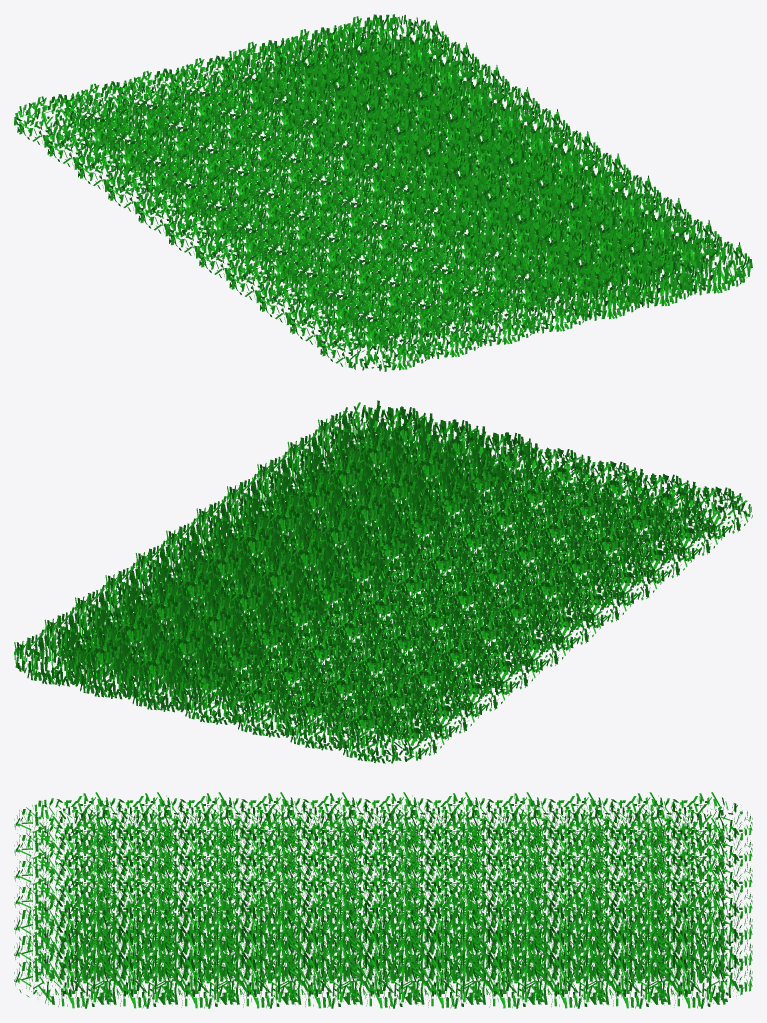
Rendered from grass.glb.
The picture shows the model from 3 angles, top to bottom: view 1: azimuth 30°, elevation 25°; view 2: azimuth 150°, elevation 25°; view 3: azimuth 270°, elevation 25°; orthographic projection.
Parts seen in each view (by area): view 1: Trava Kolosok.023, Trava Kolosok.035, Trava Kolosok.001, Trava Kolosok.055, Trava Kolosok.002, Trava Kolosok.036, Trava Kolosok.003, Trava Kolosok.056, Trava Kolosok.008, Trava Kolosok.026, Trava Kolosok.022, Trava Kolosok.021 (+65 smaller); view 2: Trava Kolosok.001, Trava Kolosok.055, Trava Kolosok.003, Trava Kolosok.056, Trava Kolosok.023, Trava Kolosok.035, Trava Kolosok.002, Trava Kolosok.067, Trava Kolosok.078, Trava Kolosok.008, Trava Kolosok.020, Trava Kolosok.018 (+65 smaller); view 3: Trava Kolosok.023, Trava Kolosok.001, Trava Kolosok.022, Trava Kolosok.021, Trava Kolosok.024, Trava Kolosok.011, Trava Kolosok.009, Trava Kolosok.010, Trava Kolosok.026, Trava Kolosok.008, Trava Kolosok.018, Trava Kolosok.035 (+65 smaller).
Part boxes in pixels (x1,y1,x2,y2): Trava Kolosok.023: [632, 236, 752, 295]; Trava Kolosok.035: [527, 261, 646, 320]; Trava Kolosok.001: [329, 14, 449, 71]; Trava Kolosok.055: [224, 39, 343, 97]; Trava Kolosok.002: [317, 316, 436, 371]; Trava Kolosok.036: [579, 249, 699, 307]; Trava Kolosok.003: [14, 94, 133, 149]; Trava Kolosok.056: [276, 27, 396, 84]; Trava Kolosok.008: [480, 125, 601, 182]; Trava Kolosok.026: [602, 213, 722, 272]; Trava Kolosok.022: [541, 169, 661, 226]; Trava Kolosok.021: [511, 147, 631, 204]; Trava Kolosok.001: [14, 623, 130, 686]; Trava Kolosok.055: [119, 648, 238, 712]; Trava Kolosok.003: [329, 704, 448, 763]; Trava Kolosok.056: [66, 635, 182, 699]; Trava Kolosok.023: [317, 400, 435, 461]; Trava Kolosok.035: [423, 426, 542, 488]; Trava Kolosok.002: [633, 481, 752, 540]; Trava Kolosok.067: [224, 678, 342, 737]; Trava Kolosok.078: [277, 691, 394, 750]; Trava Kolosok.008: [166, 511, 281, 573]; Trava Kolosok.020: [360, 682, 479, 741]; Trava Kolosok.018: [44, 600, 160, 661]; Trava Kolosok.023: [14, 943, 136, 1008]; Trava Kolosok.001: [630, 943, 752, 1008]; Trava Kolosok.022: [199, 943, 321, 1008]; Trava Kolosok.021: [260, 943, 383, 1008]; Trava Kolosok.024: [137, 943, 260, 1008]; Trava Kolosok.011: [506, 943, 629, 1008]; Trava Kolosok.009: [383, 943, 506, 1008]; Trava Kolosok.010: [445, 943, 568, 1008]; Trava Kolosok.026: [75, 943, 198, 1008]; Trava Kolosok.008: [322, 943, 444, 1008]; Trava Kolosok.018: [568, 943, 691, 1008]; Trava Kolosok.035: [14, 891, 136, 956].
Size of the model in its own units: 4 by 0.15 by 6.
